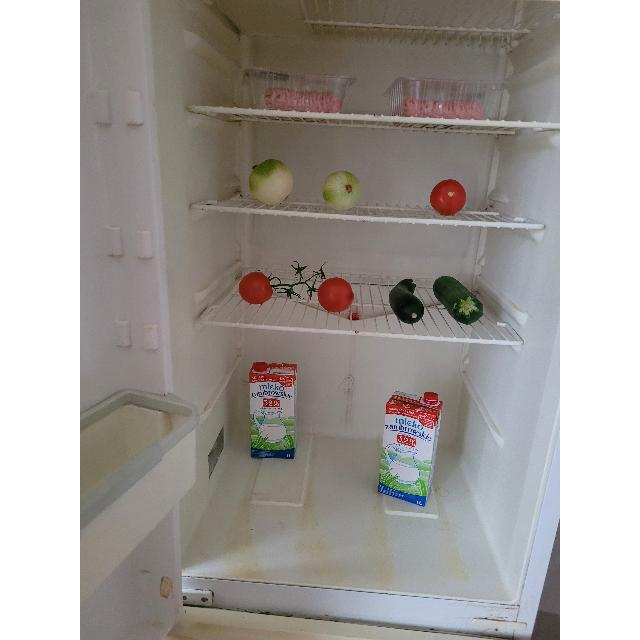meat: (396, 92, 484, 122), (265, 86, 341, 114)
milk: (380, 392, 440, 506), (248, 360, 300, 460)
onion: (247, 158, 296, 206), (326, 172, 358, 210)
tomato: (317, 274, 355, 314), (429, 177, 466, 215), (238, 272, 272, 306)
zucchini: (434, 277, 480, 323), (391, 278, 423, 324)
